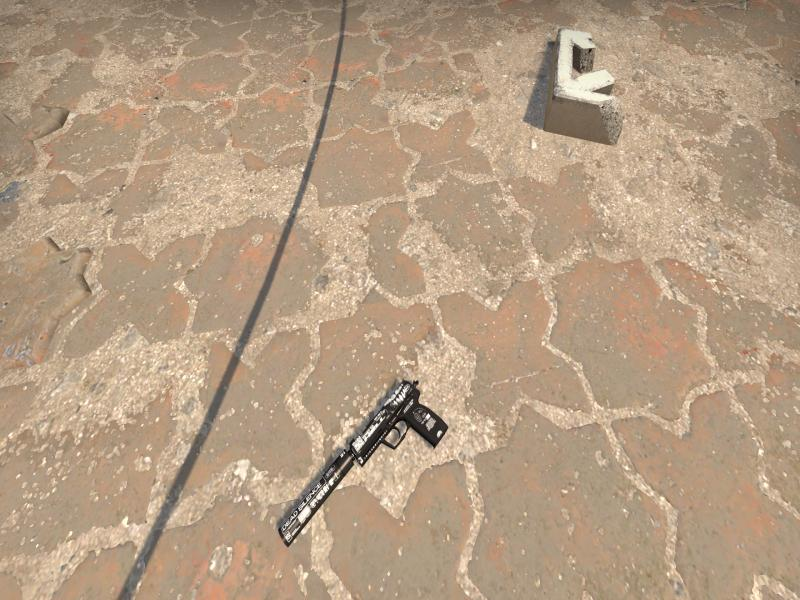USP: (278, 380, 449, 546)
